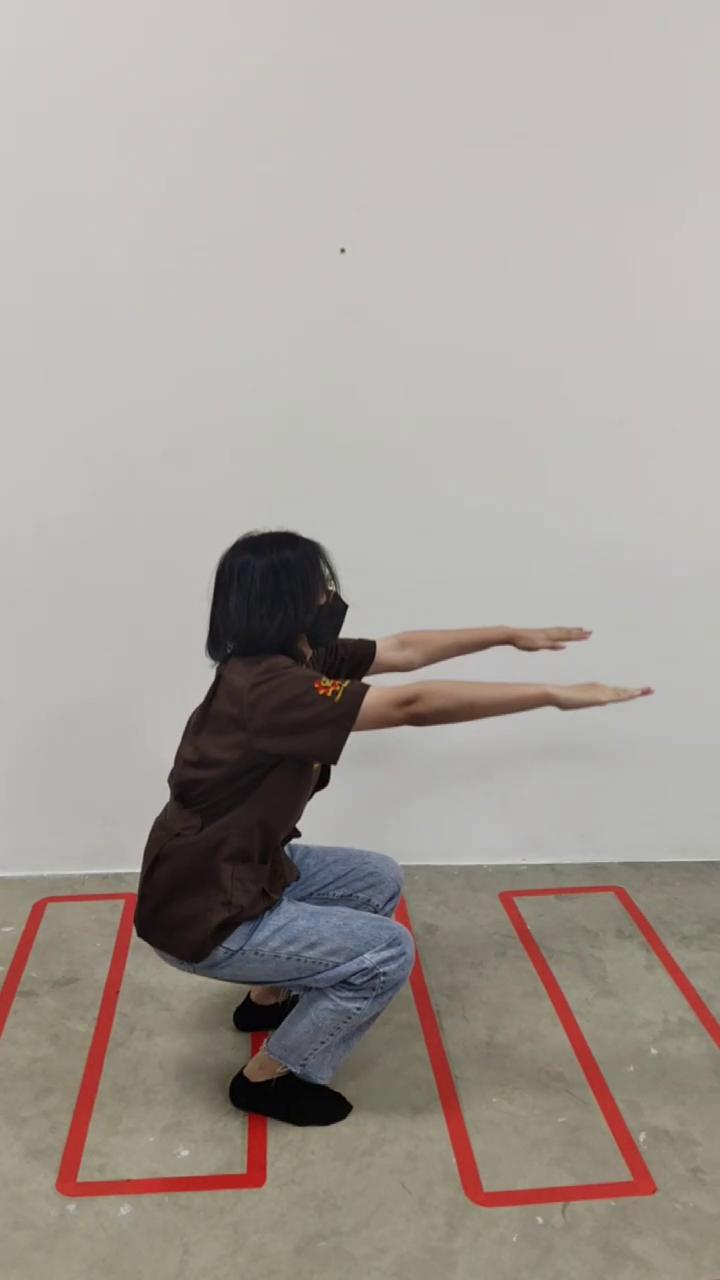squat up: (138, 530, 650, 1125)
